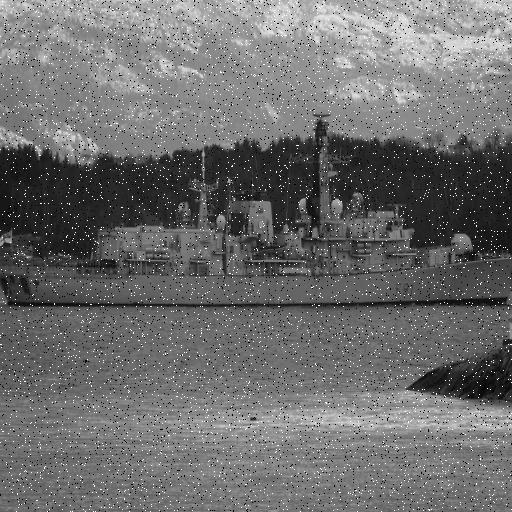Fragata: (1, 111, 512, 311)
